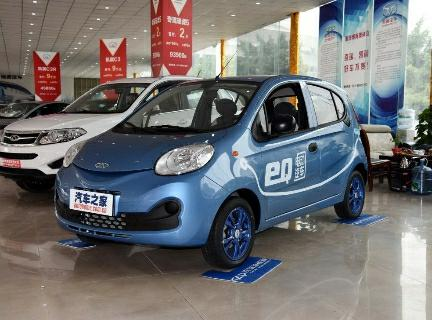car: (52, 80, 383, 275)
